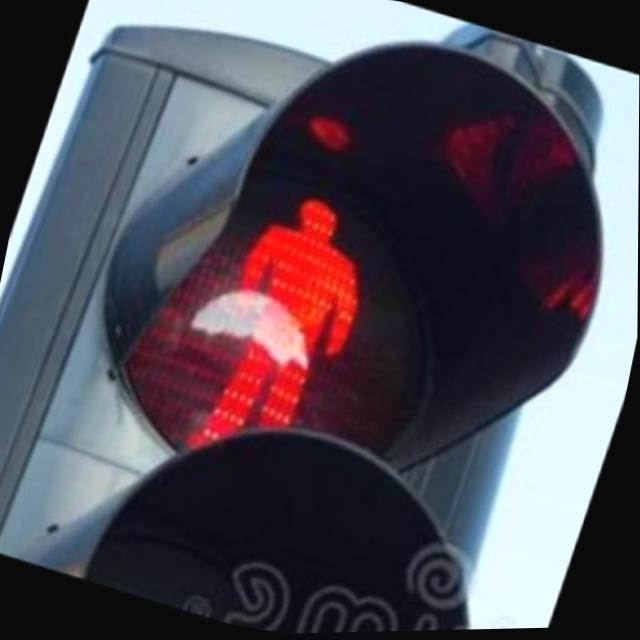red_light: (44, 53, 596, 581)
